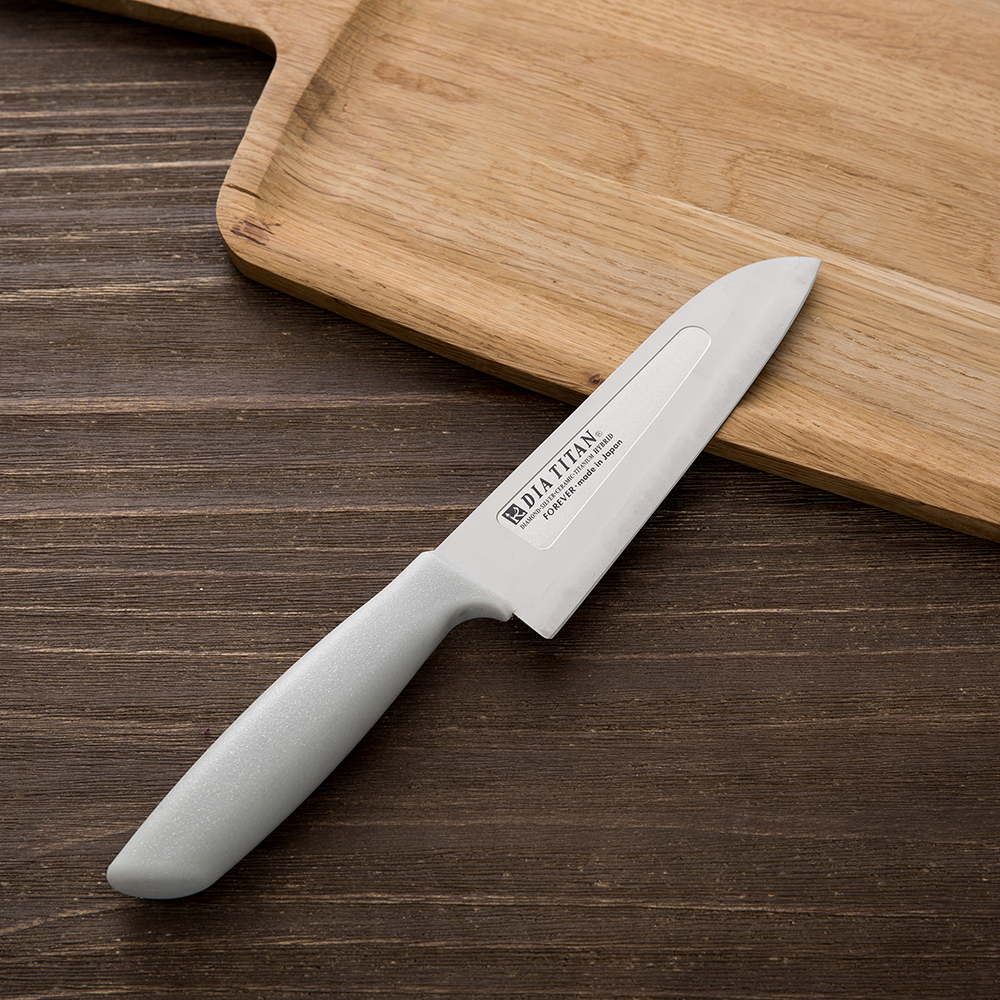knief: (132, 216, 822, 907)
